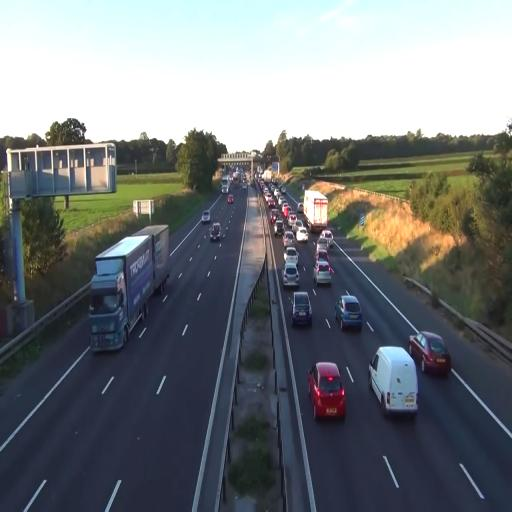vehicle: (88, 222, 171, 355), (368, 344, 419, 418), (308, 361, 346, 421), (408, 330, 452, 377), (303, 190, 329, 237), (335, 293, 362, 331), (291, 291, 312, 329), (314, 252, 334, 288), (282, 249, 300, 286), (294, 219, 310, 243), (209, 222, 222, 242), (274, 217, 286, 236), (202, 212, 210, 222)
